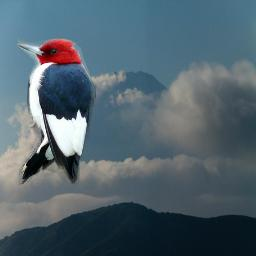Woodpecker: (17, 34, 96, 189)
